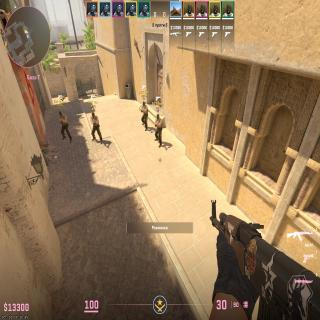T-Body: (58, 111, 69, 141), (90, 112, 100, 142), (154, 114, 162, 147), (141, 101, 148, 130)
T-Head: (59, 111, 63, 116), (156, 114, 160, 119), (92, 112, 95, 118), (143, 102, 145, 106)
